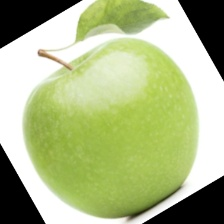apple: (0, 3, 194, 180)
